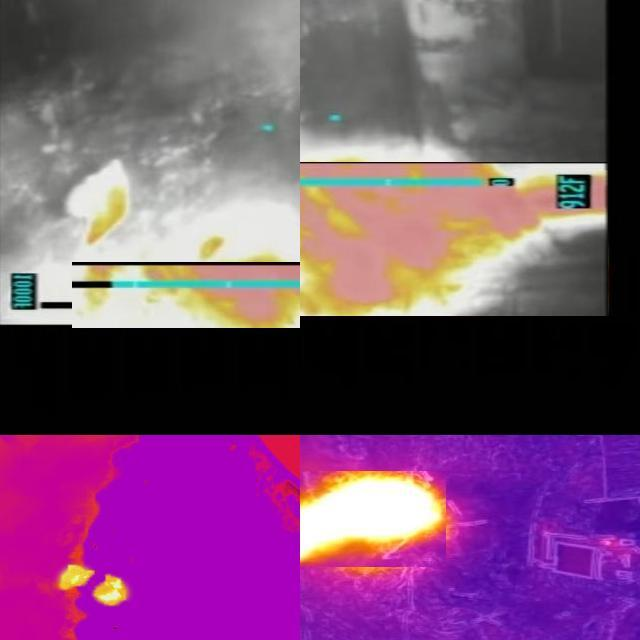fire: (301, 163, 608, 317), (72, 263, 301, 329), (301, 472, 446, 568), (22, 530, 148, 640), (43, 436, 193, 505)
